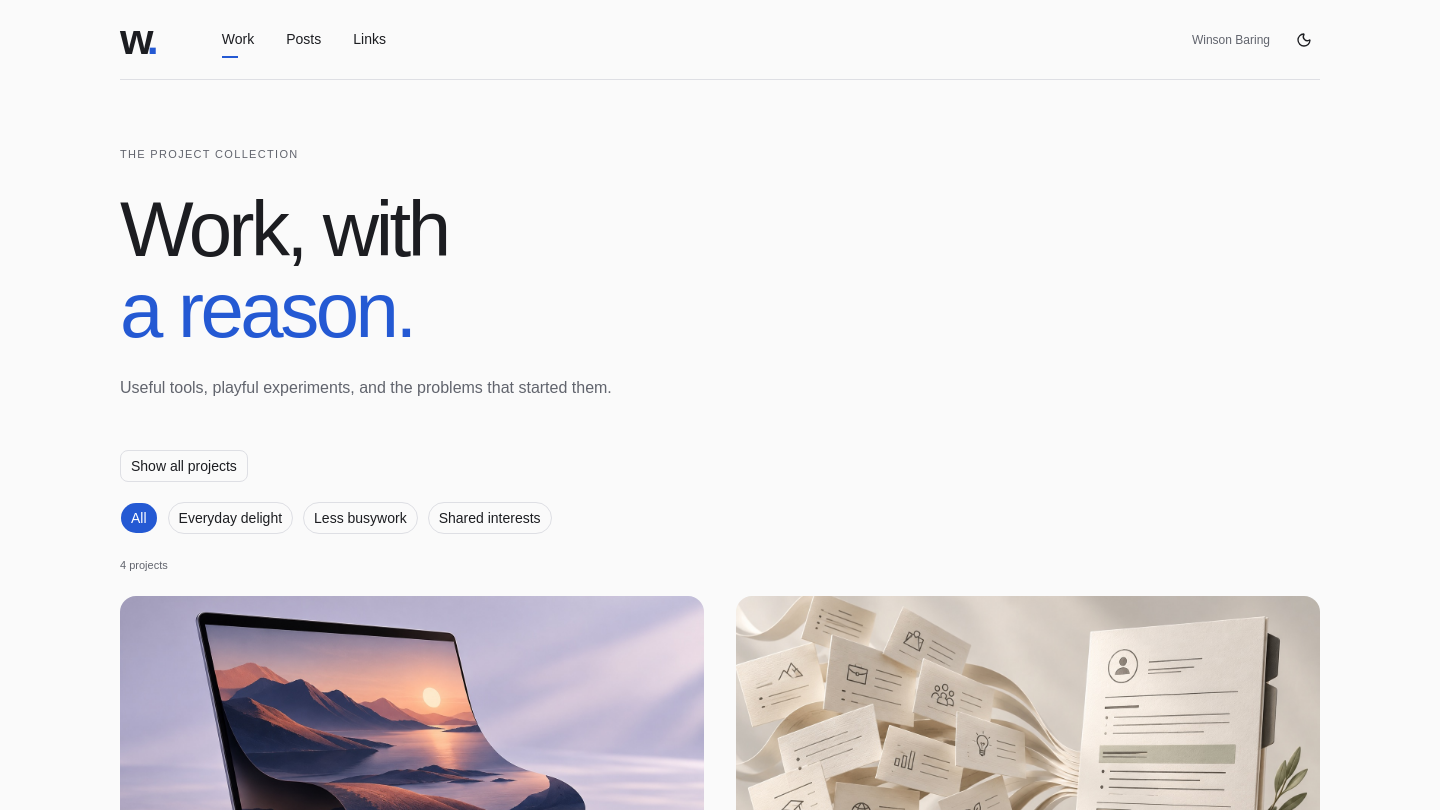
Test: hides archived projects until requested and resets the category when hiding them
The image size is (1440, 810).
expect the message reads "4 projects": met, box [120,559,168,571]
Click the button "Show all projects" at {"x": 184, "y": 466}, box [120,450,248,482]
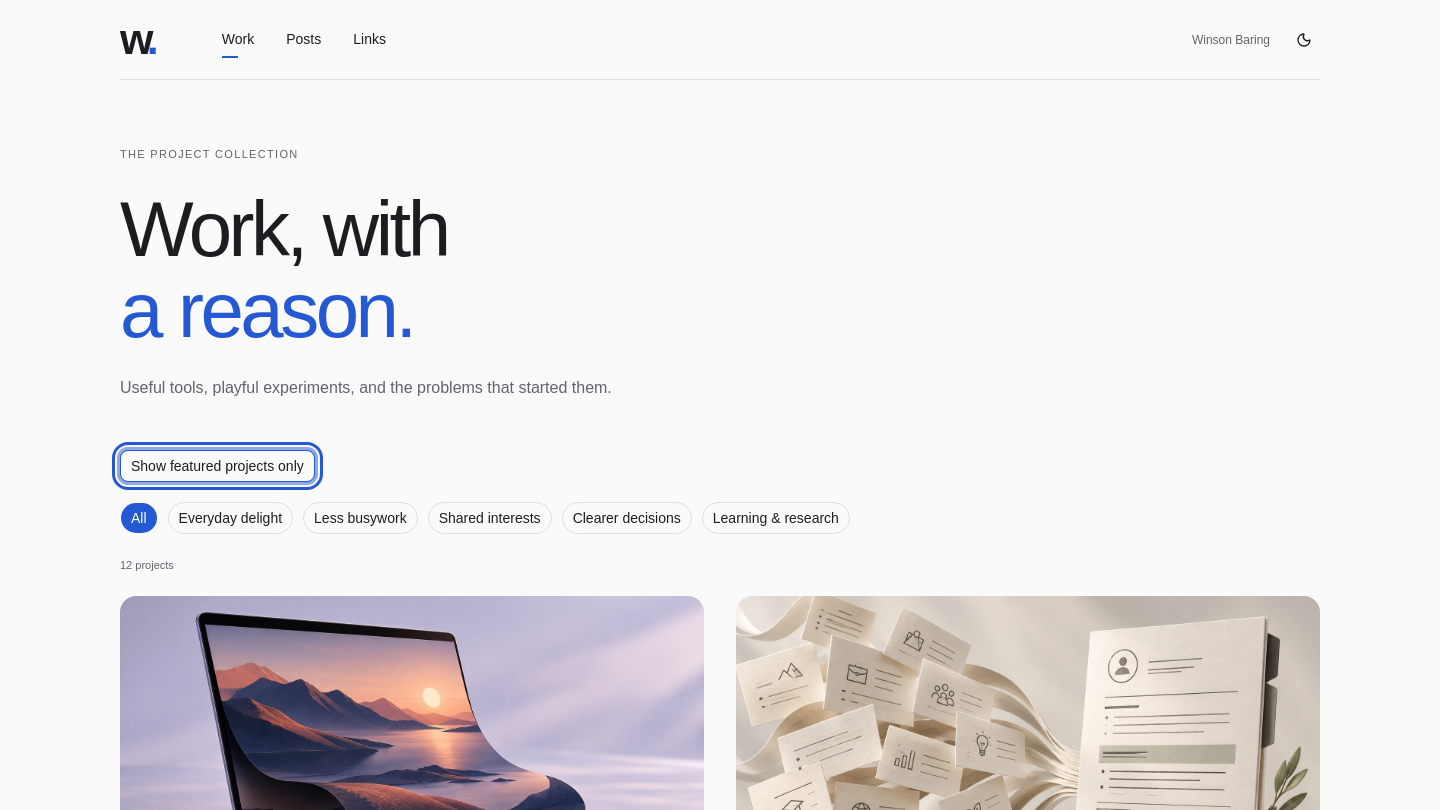
expect the message reads "12 projects": met, box [120,559,174,571]
Click the button "Learning & research" at {"x": 776, "y": 518}, box [702,502,850,534]
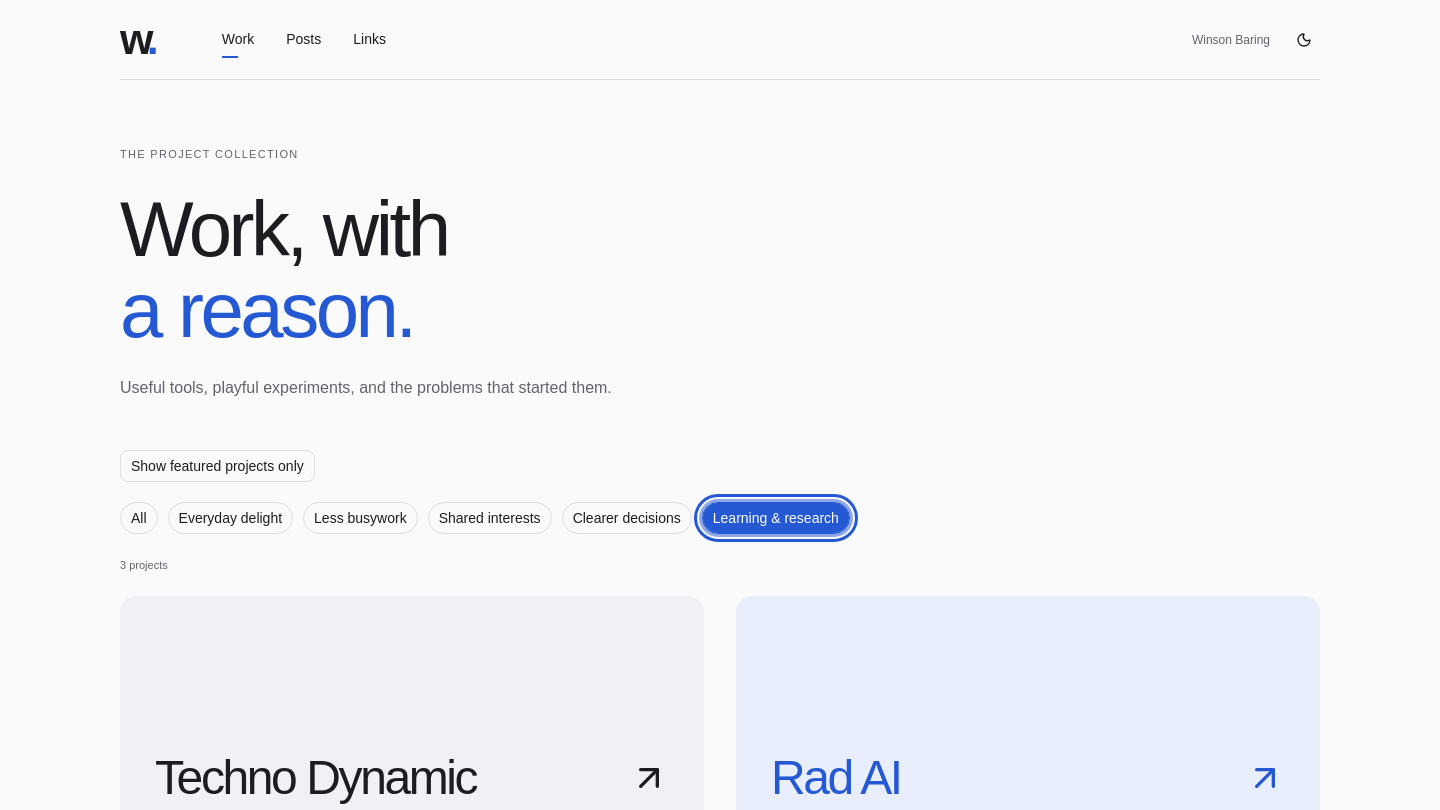
expect the message reads "3 projects": met, box [120,559,168,571]
Click the button "Show featured projects only" at {"x": 217, "y": 466}, box [120,450,315,482]
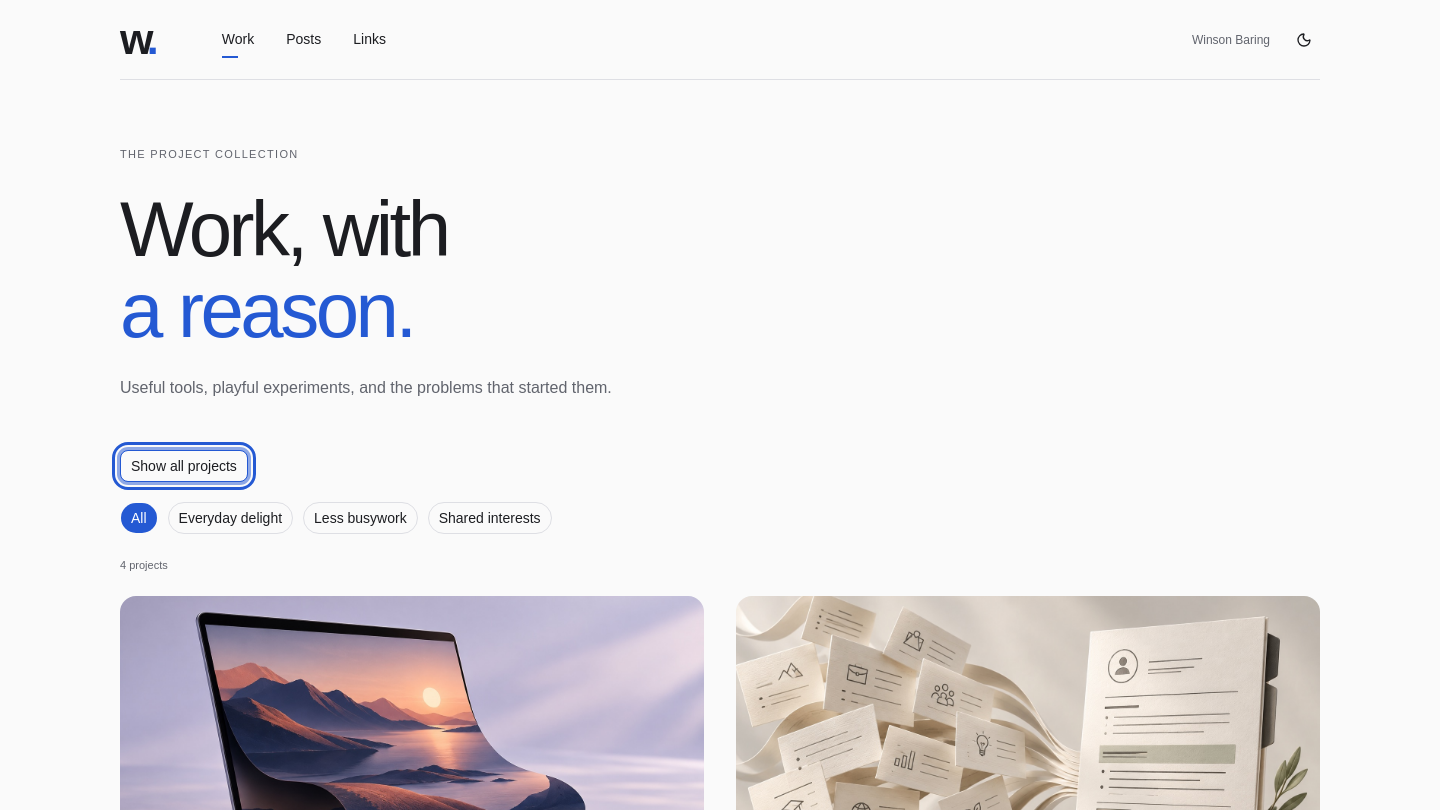
expect the message reads "4 projects": met, box [120,559,168,571]
expect the button "Learning & research" is gone: met
